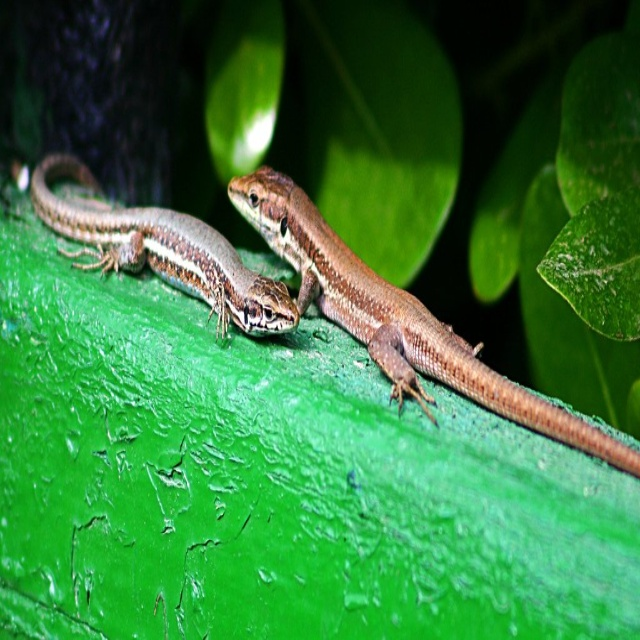Lizard: (228, 166, 640, 479), (31, 154, 300, 348)
